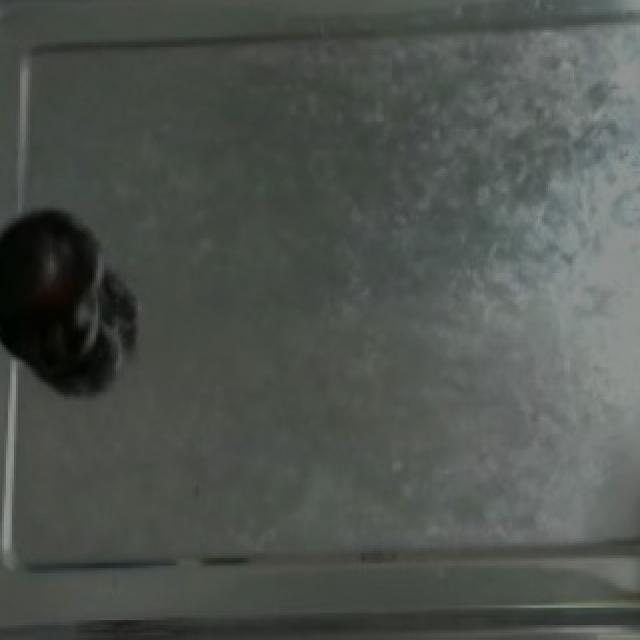Fruit: (0, 203, 104, 382)
